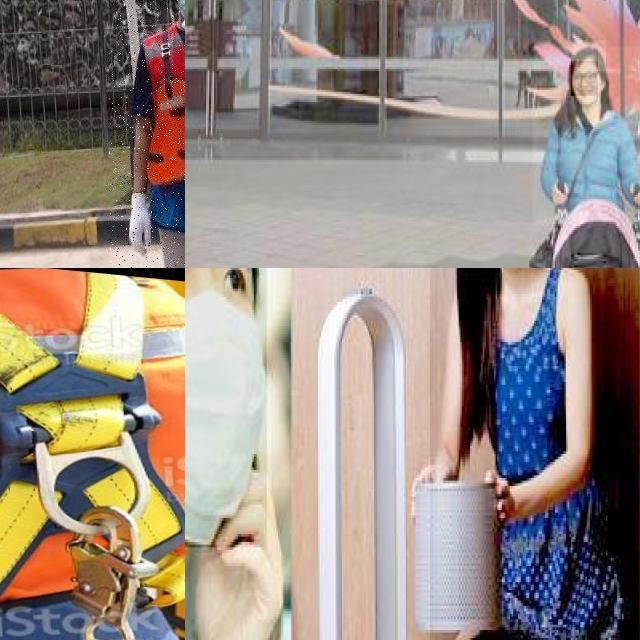Harness: (0, 274, 185, 640)
face_mask: (185, 268, 266, 547)
face_nomask: (570, 61, 600, 98)
hand_noglove: (188, 450, 287, 640), (406, 449, 459, 515), (481, 455, 521, 533), (548, 176, 572, 204), (627, 178, 640, 209)
head_nohelmet: (572, 40, 608, 73)
person: (430, 268, 640, 640), (185, 268, 295, 640), (109, 0, 185, 268), (532, 46, 640, 227)
vest: (139, 23, 185, 243)
